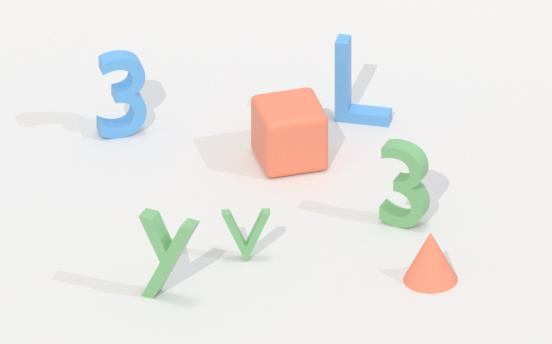3: (86, 50, 155, 138), (376, 139, 436, 229)
Y: (131, 205, 201, 306)
hop: (244, 88, 332, 180)
l: (331, 31, 406, 126)
non: (398, 231, 464, 298)
v: (216, 204, 276, 264)
